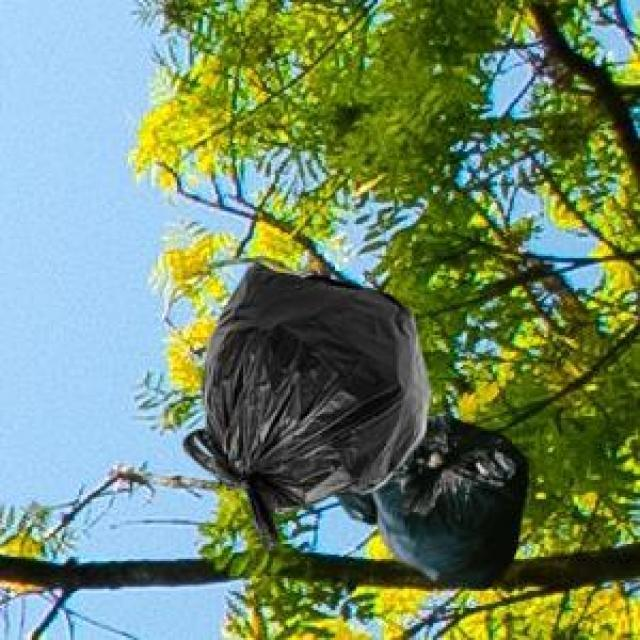waste: (185, 265, 529, 586)
